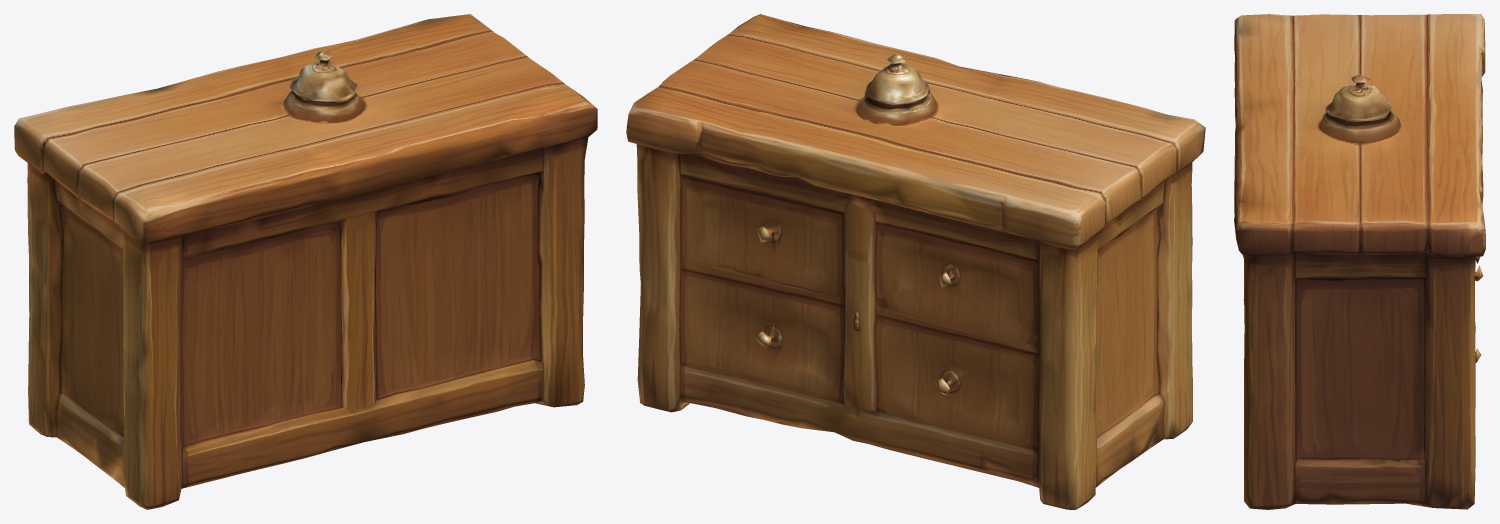
The model's file is SM_Env_PickupCounter.fbx.
The picture shows the model from 3 angles, left to right: view 1: azimuth 30°, elevation 25°; view 2: azimuth 150°, elevation 25°; view 3: azimuth 270°, elevation 25°; orthographic projection. The views are drawn at different scales.
Parts seen in each view (by area): view 1: SM_Env_PickupCounter; view 2: SM_Env_PickupCounter; view 3: SM_Env_PickupCounter.
Boxes of the visible parts, x1,y1,x2,y2 form: SM_Env_PickupCounter: [14, 14, 597, 509]; SM_Env_PickupCounter: [626, 14, 1205, 509]; SM_Env_PickupCounter: [1234, 14, 1485, 509].
Bounding box in the file's own units: 1.2 × 0.9 × 0.6.
